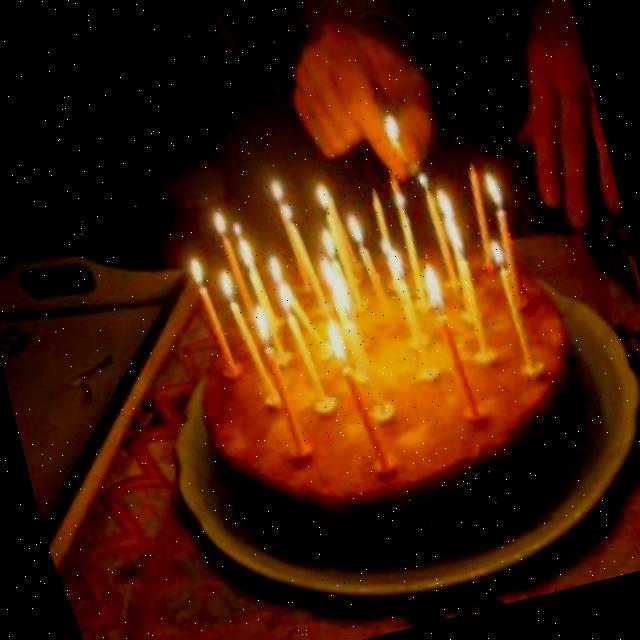fire: (308, 212, 367, 322), (211, 192, 265, 275), (432, 182, 476, 262), (315, 300, 360, 371), (376, 225, 420, 291), (418, 250, 462, 316), (266, 248, 305, 322), (478, 160, 517, 215), (272, 171, 304, 228), (251, 297, 282, 349), (381, 105, 413, 147), (216, 264, 246, 305), (346, 205, 374, 247), (315, 178, 341, 218), (187, 247, 213, 287), (489, 233, 515, 273), (413, 158, 441, 194), (391, 181, 416, 214)
